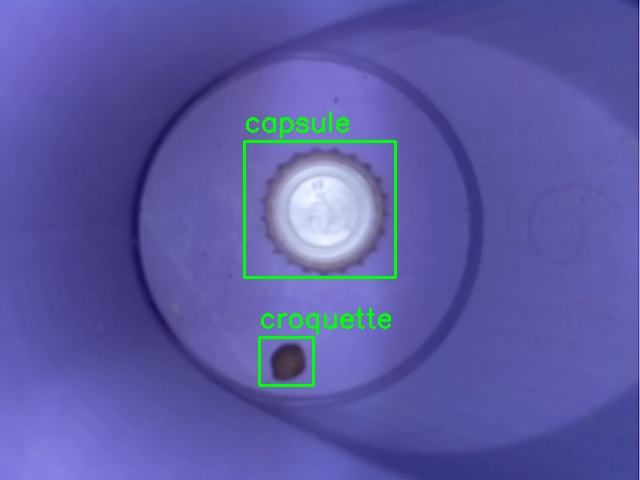capsule: (244, 141, 395, 277)
croquette: (259, 337, 313, 385)
